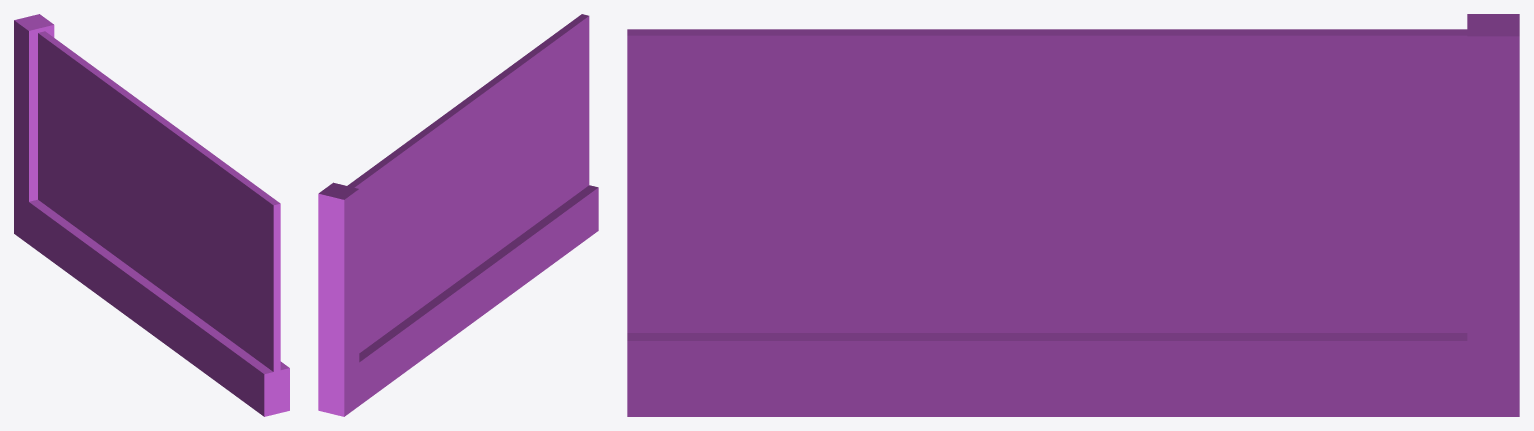
The model's file is cotf_fence.FBX.
3 views of the same model, side by side, from view 1: azimuth 30°, elevation 25°; view 2: azimuth 150°, elevation 25°; view 3: azimuth 270°, elevation 25° (orthographic). The views are drawn at different scales.
Parts seen in each view (by area): view 1: cotf_fence; view 2: cotf_fence; view 3: cotf_fence.
Part boxes in pixels (left/top/right/bottom): cotf_fence: left=14, top=14, right=289, bottom=416; cotf_fence: left=318, top=14, right=598, bottom=416; cotf_fence: left=627, top=14, right=1519, bottom=416.
Size of the model in its own units: 0.4922 by 3.94 by 8.36.
